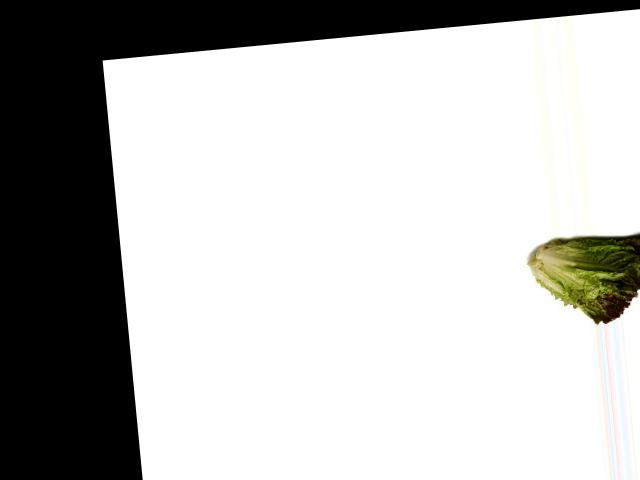lettuce: (528, 232, 640, 328)
